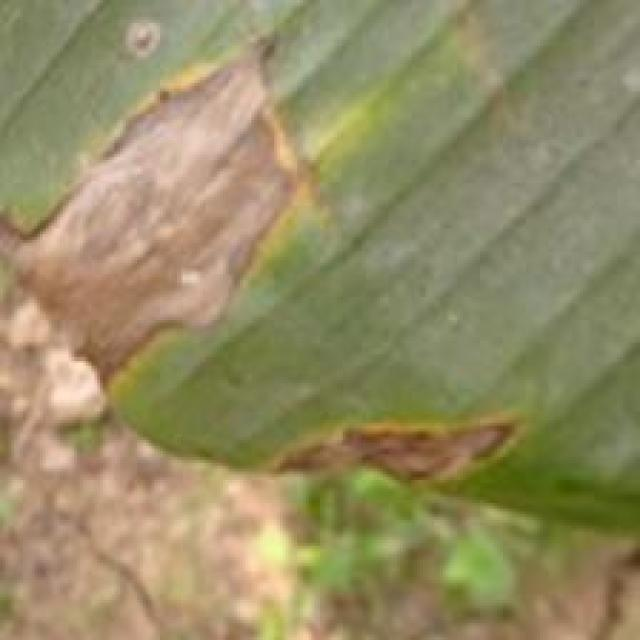Bacterial_spot: (5, 40, 321, 373), (268, 393, 529, 501), (113, 11, 161, 65)
